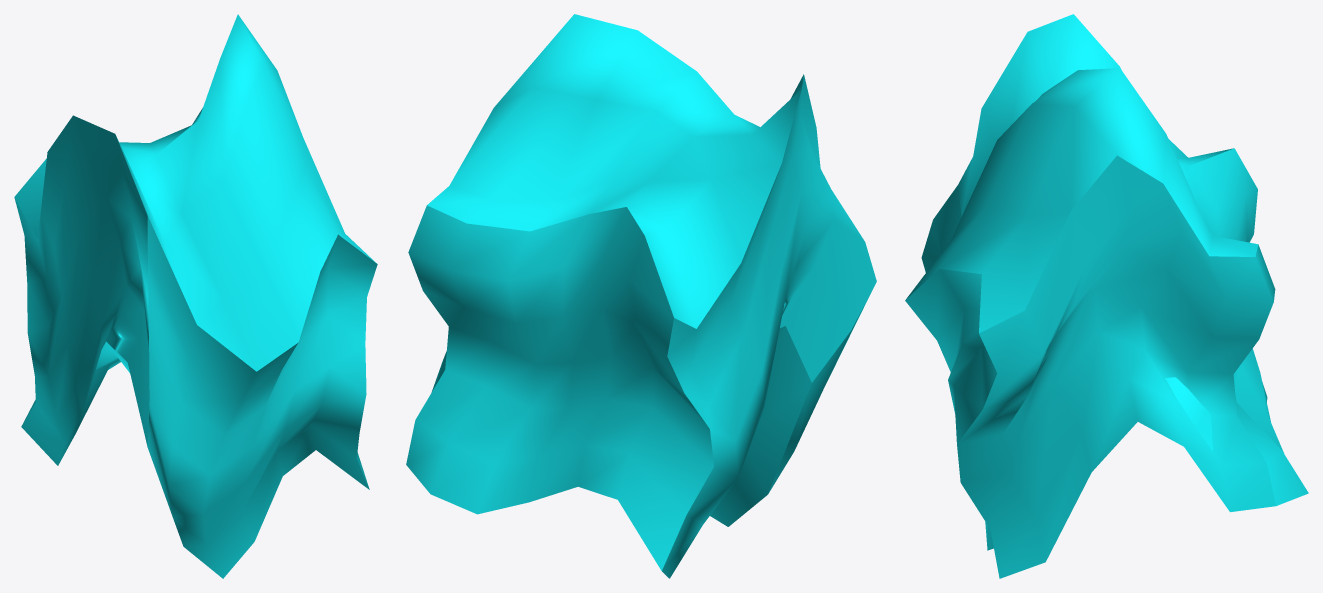
The model's file is Mapa03_CrystalTiroA.FBX.
3 renders of one model, left to right at view 1: azimuth 30°, elevation 25°; view 2: azimuth 150°, elevation 25°; view 3: azimuth 270°, elevation 25°, orthographic. The views are drawn at different scales.
Visible parts, largest first — view 1: CrystalTiroA_Mapa03; view 2: CrystalTiroA_Mapa03; view 3: CrystalTiroA_Mapa03.
Part boxes in pixels (left/top/right/bottom): CrystalTiroA_Mapa03: left=14, top=14, right=377, bottom=578; CrystalTiroA_Mapa03: left=406, top=14, right=876, bottom=578; CrystalTiroA_Mapa03: left=905, top=14, right=1308, bottom=578.
Size of the model in its own units: 9.27 by 15.5 by 10.86.
